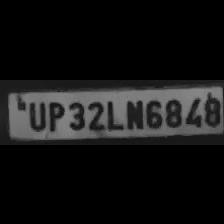2: (85, 97, 105, 130)
3: (65, 97, 85, 130)
4: (182, 93, 202, 127)
6: (144, 96, 162, 128)
8: (162, 95, 182, 127), (202, 93, 220, 126)
L: (104, 96, 122, 130)
N: (123, 95, 143, 129)
P: (45, 97, 65, 131)
U: (24, 97, 46, 130)
